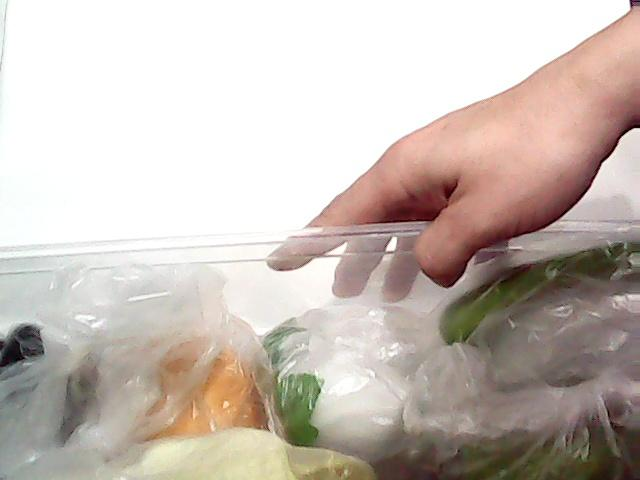grape: (0, 292, 112, 403)
lemon: (112, 322, 284, 436)
pepper: (412, 204, 640, 364)
radish: (262, 302, 450, 460)
